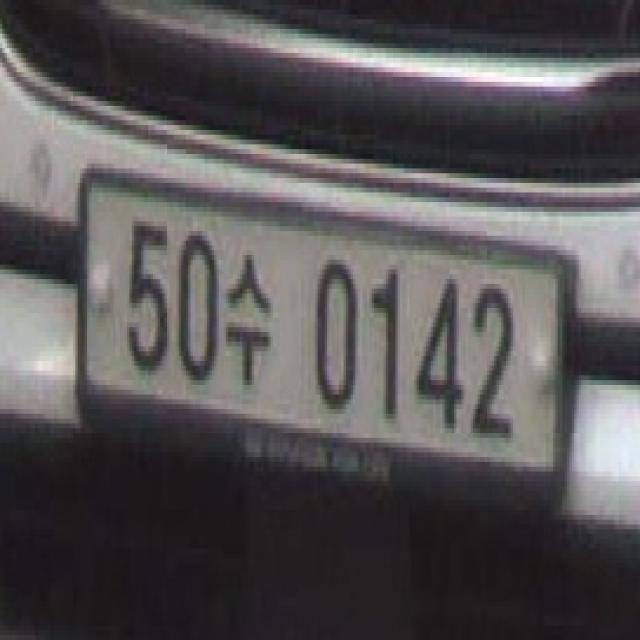0: (313, 244, 358, 422), (176, 227, 220, 395)
1: (368, 256, 403, 431)
2: (470, 272, 522, 450)
4: (412, 266, 467, 436)
5: (122, 211, 170, 382)
license_plate: (74, 161, 577, 512)
su: (223, 228, 275, 396)
